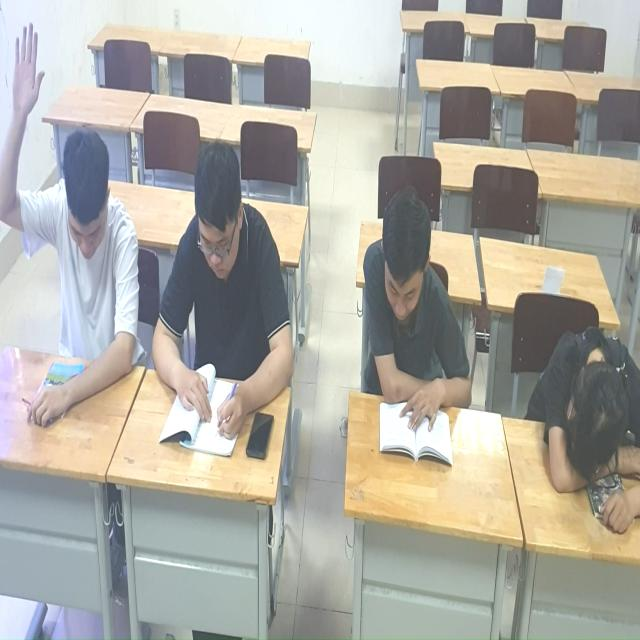raise_hand: (1, 22, 142, 434)
read: (151, 140, 297, 467), (359, 182, 472, 470)
sleep: (528, 314, 640, 543)
